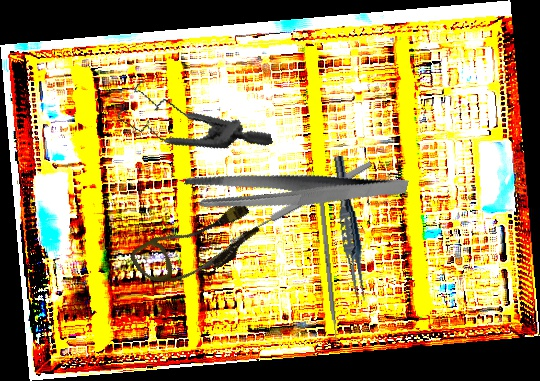Cannula: (127, 188, 267, 305)
Dressing Forceps: (180, 127, 409, 254)
Pusher: (318, 200, 341, 355)
Speculum: (109, 49, 274, 185)
Surgical Spoon: (227, 159, 374, 246)
Tissue Forceps: (326, 154, 373, 304)
